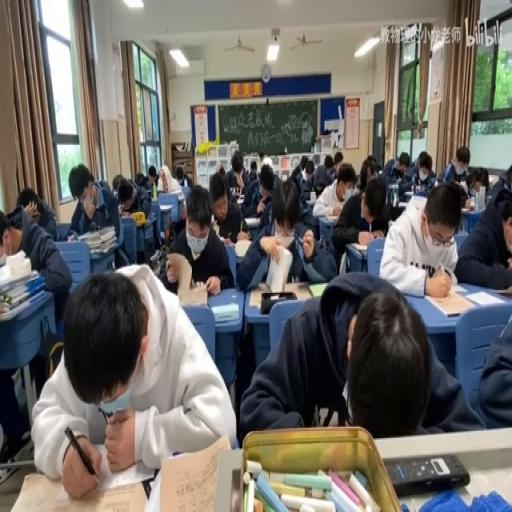calculator: (7, 458, 152, 509), (155, 432, 233, 510), (247, 282, 317, 308), (423, 288, 477, 316), (245, 250, 267, 289), (178, 284, 206, 308), (210, 300, 238, 322), (234, 238, 252, 258), (307, 282, 327, 296), (492, 283, 512, 296), (348, 240, 368, 252), (243, 215, 261, 226), (323, 213, 341, 222), (452, 283, 470, 292), (460, 202, 475, 212), (412, 189, 426, 198), (235, 196, 245, 205), (158, 204, 173, 210), (404, 189, 414, 196), (120, 212, 130, 219), (155, 189, 165, 194)
paper: (34, 260, 235, 495), (236, 270, 478, 440), (0, 196, 70, 332), (381, 179, 462, 296), (453, 179, 512, 290), (69, 162, 123, 268), (331, 171, 392, 263), (288, 175, 340, 282), (476, 298, 511, 430), (206, 170, 246, 244), (244, 165, 278, 236), (114, 173, 152, 222), (438, 145, 472, 189), (406, 148, 436, 193), (310, 154, 336, 196), (382, 152, 406, 184), (387, 183, 406, 222), (451, 181, 470, 206), (158, 164, 174, 192), (475, 168, 490, 195), (174, 164, 192, 186), (299, 175, 313, 202), (498, 165, 511, 188), (333, 149, 343, 175), (147, 165, 158, 186), (230, 155, 242, 174), (260, 154, 274, 170), (134, 170, 146, 188), (248, 158, 258, 179), (366, 154, 378, 170), (298, 154, 308, 172), (112, 174, 123, 190), (418, 156, 426, 170), (218, 163, 224, 175)
person: (386, 452, 470, 494), (149, 244, 169, 274), (141, 476, 153, 500)
